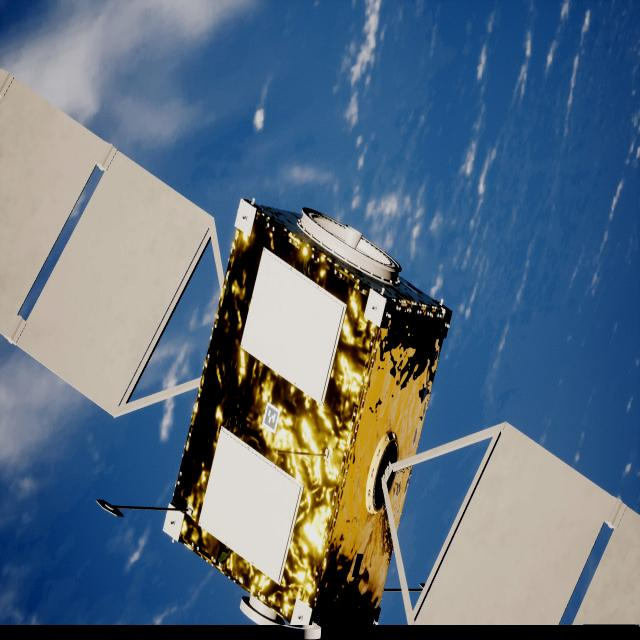satellite: (0, 69, 640, 640)
